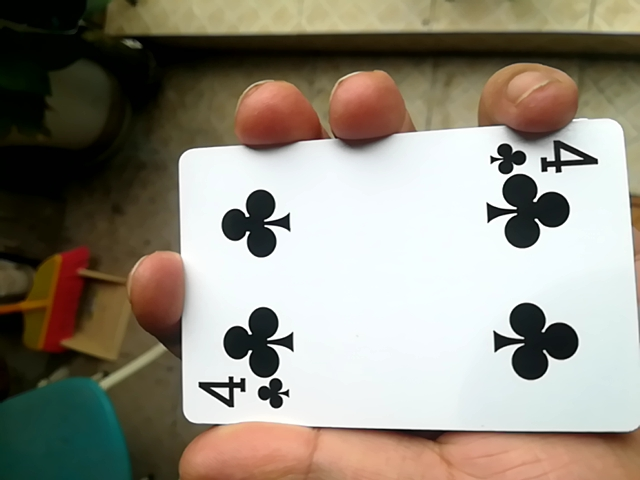mh 4: (157, 123, 635, 443)
